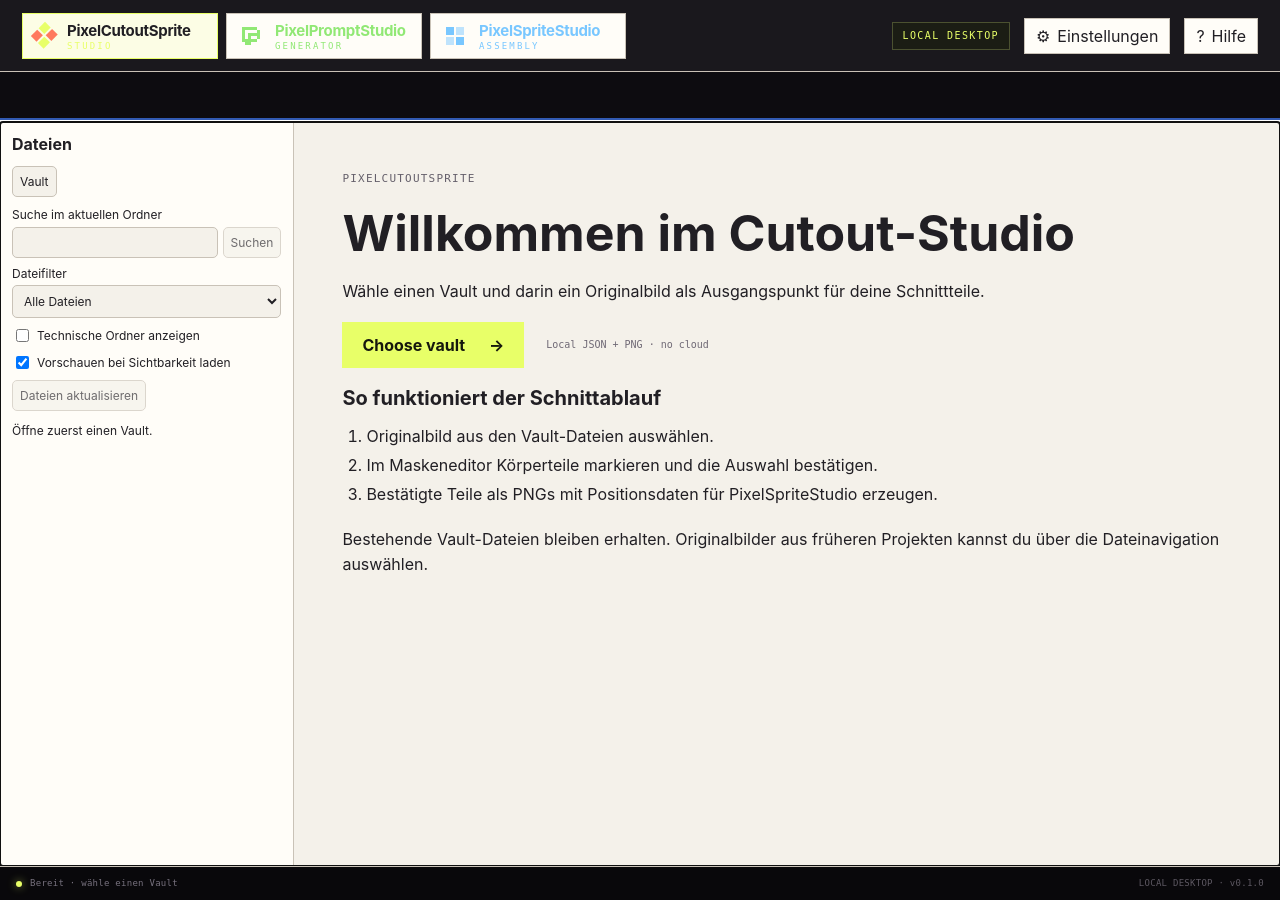
Test: P37 Cutout restart › still opens and dismisses keyboard help without advertising removed playback
The image size is (1280, 900).
Click the button with aria-label "Open shortcut help" at (1221, 36), box top-left (1184, 18), bottom-right (1258, 54)
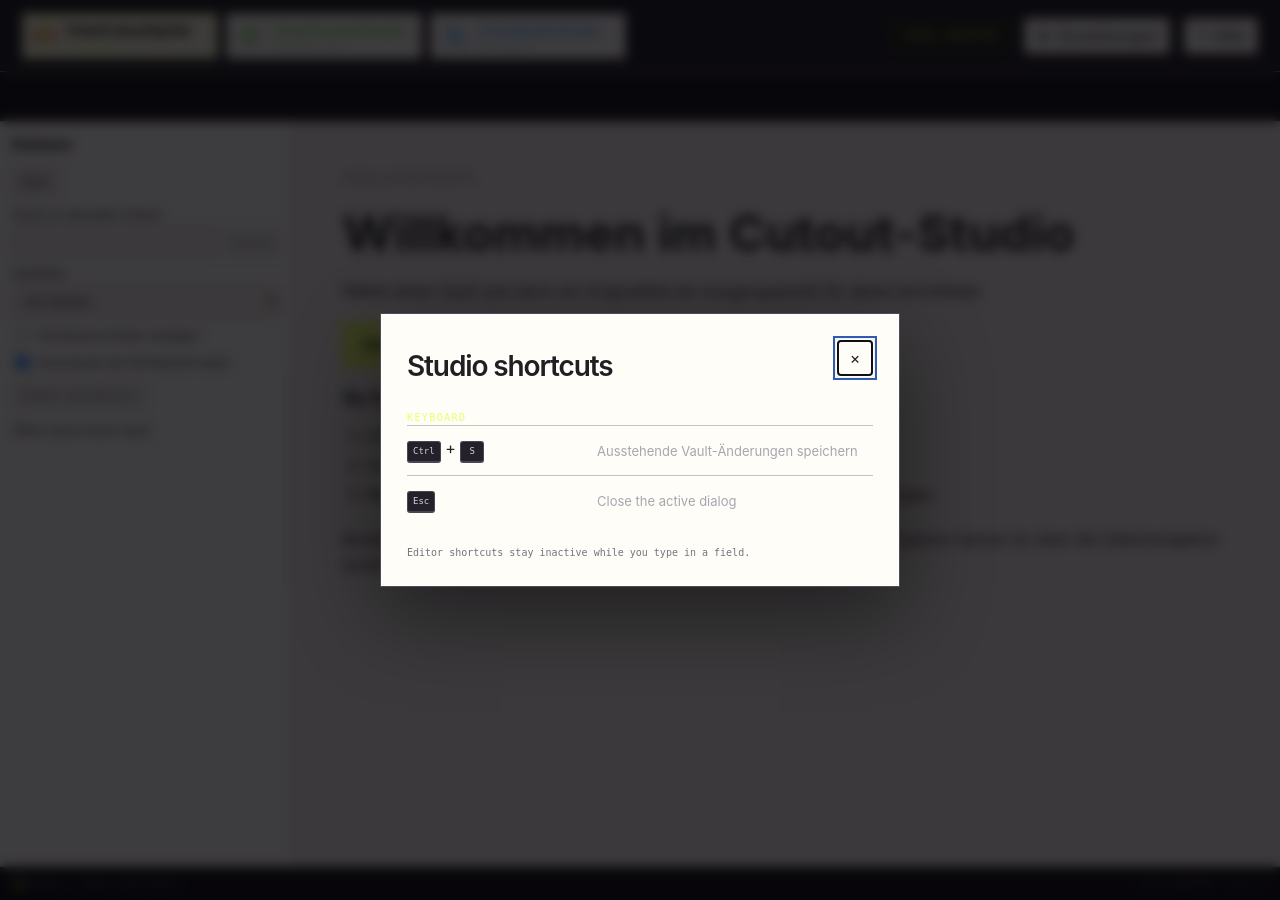
Press Escape
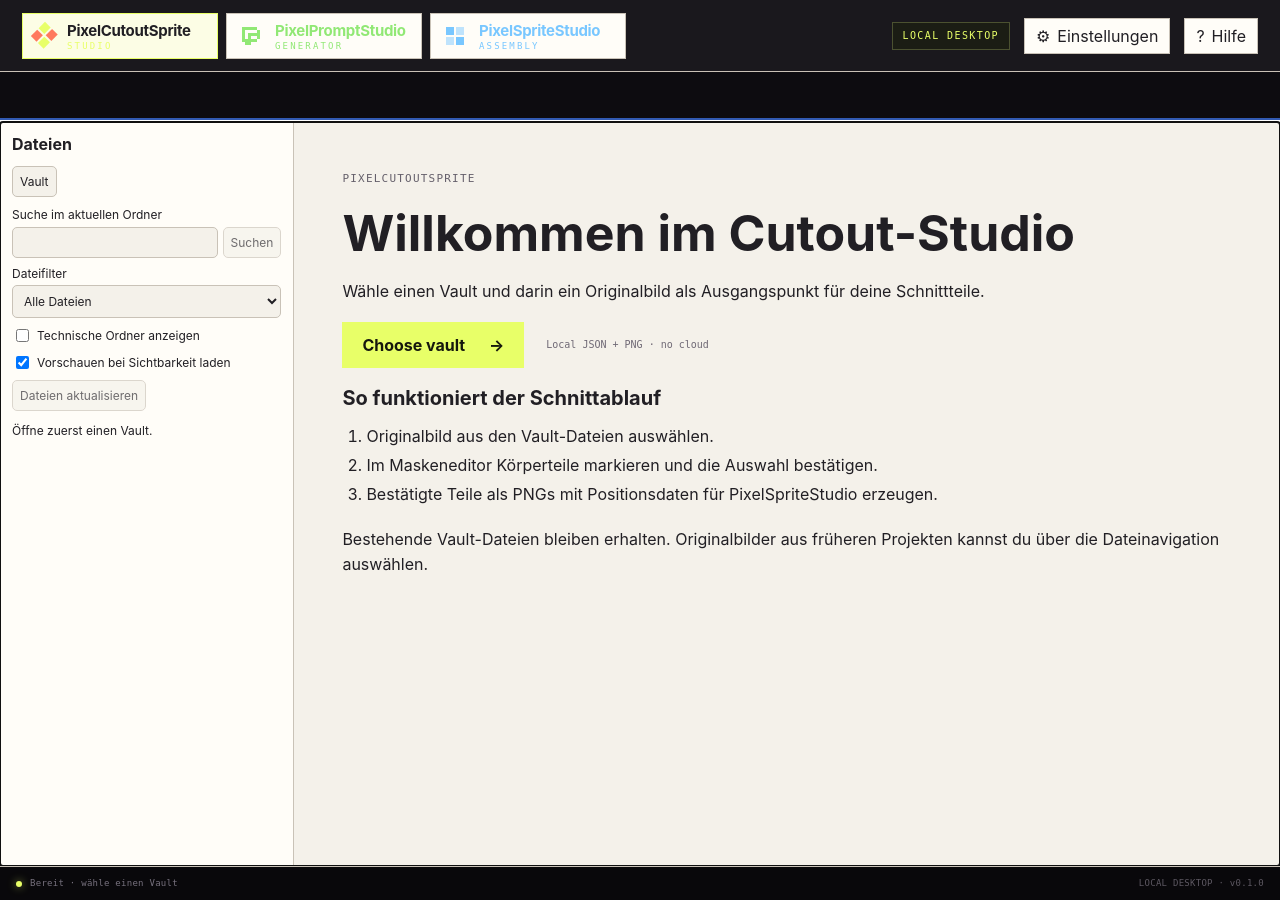
Expected: the dialog is gone
